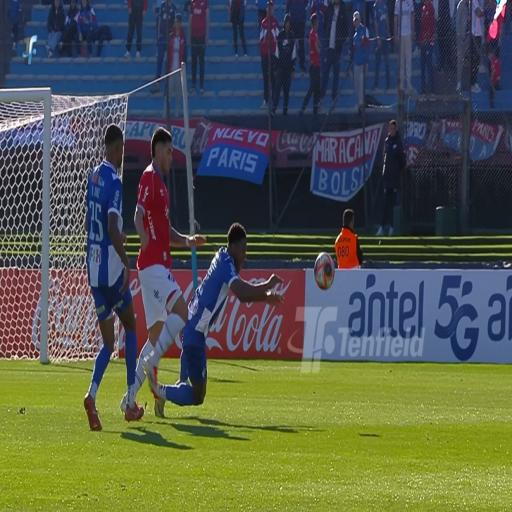Ball: (313, 248, 335, 290)
Player: (173, 225, 252, 415), (85, 120, 134, 421), (134, 118, 179, 394)
